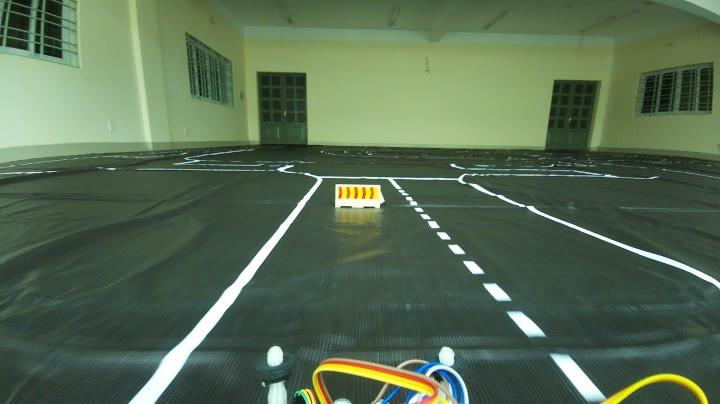roadblock: (332, 183, 388, 218)
